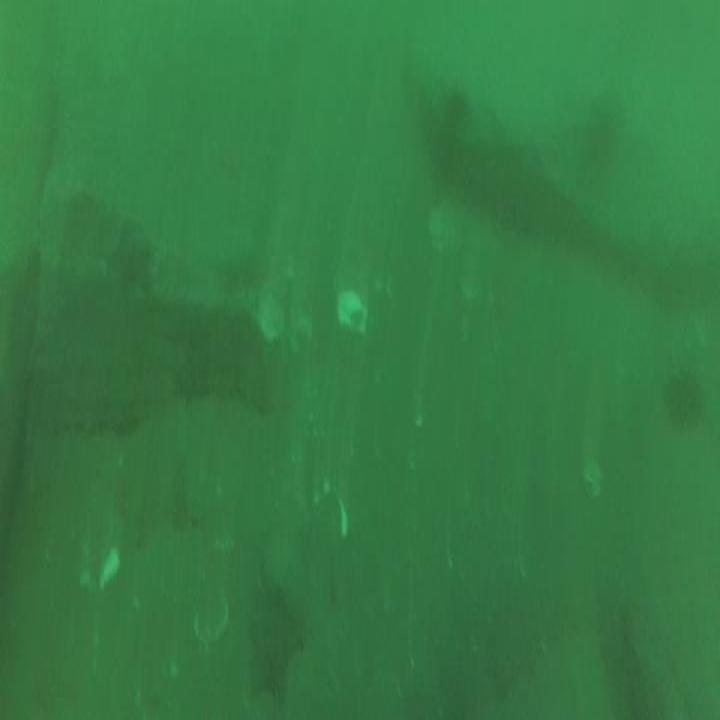starfish: (242, 583, 308, 706)
